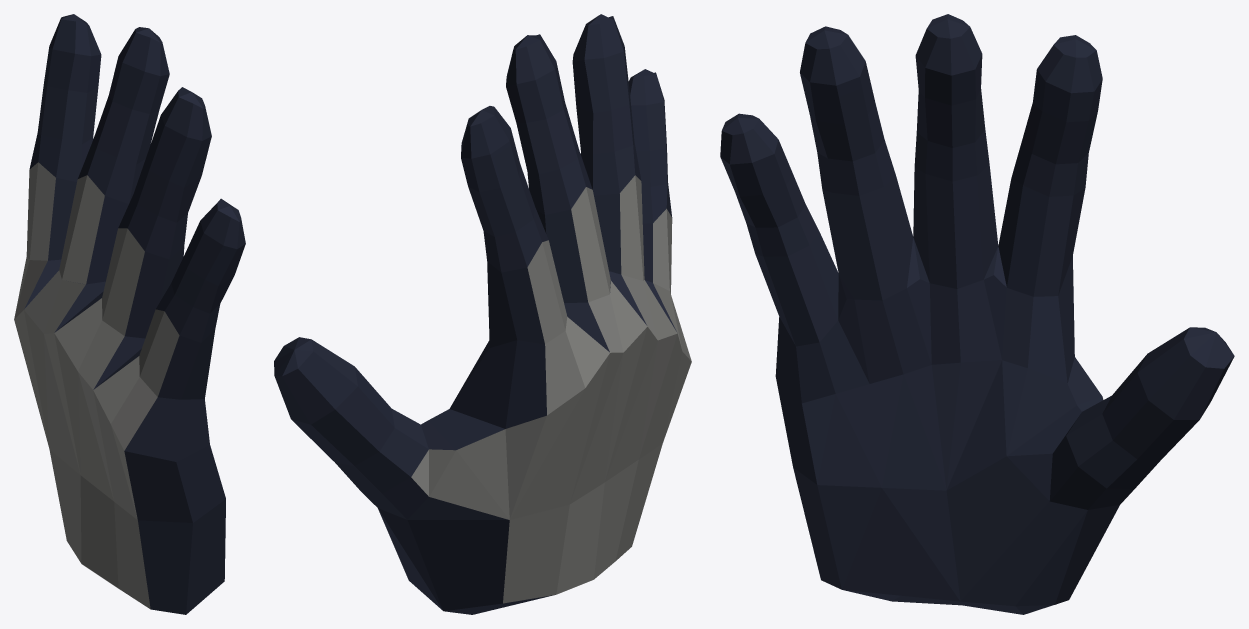
The model's file is Hand_Open.fbx.
3 views of the same model, side by side, from view 1: azimuth 30°, elevation 25°; view 2: azimuth 150°, elevation 25°; view 3: azimuth 270°, elevation 25° (orthographic). The views are drawn at different scales.
Visible parts, largest first — view 1: Open; view 2: Open; view 3: Open.
Boxes of the visible parts, x1=… form: Open: x1=14, y1=14, x2=245, y2=614; Open: x1=274, y1=14, x2=691, y2=614; Open: x1=720, y1=14, x2=1234, y2=614.
Size of the model in its own units: 11.75 by 26.38 by 20.88.
